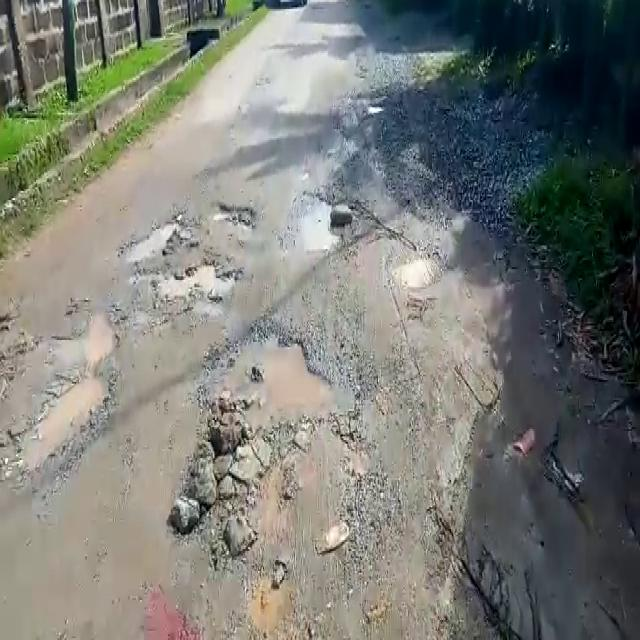Pothole: (206, 328, 331, 425), (23, 373, 111, 467), (152, 256, 243, 304), (290, 186, 344, 252), (120, 213, 180, 260), (384, 250, 441, 291), (84, 308, 119, 365), (216, 202, 258, 231)
